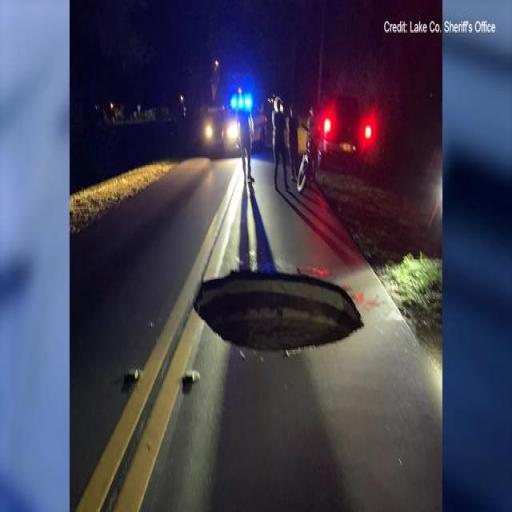Concentric_Crack: (194, 270, 363, 350)
